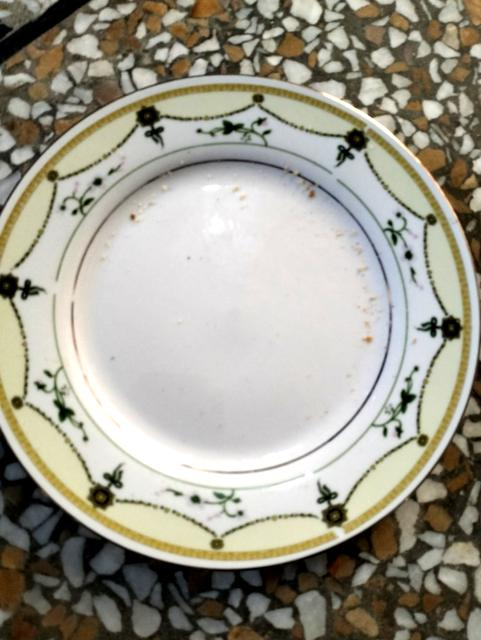Plate: (0, 76, 480, 568)
